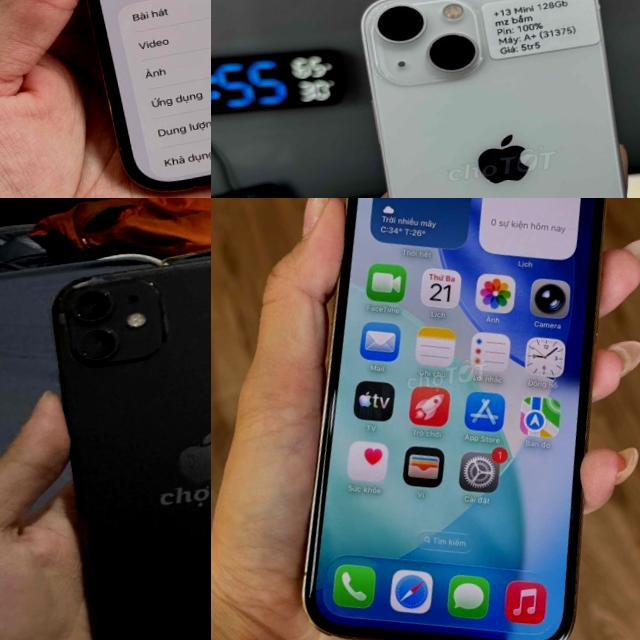scratch: (61, 241, 211, 289), (78, 288, 114, 358), (150, 286, 176, 346), (50, 306, 70, 324)
